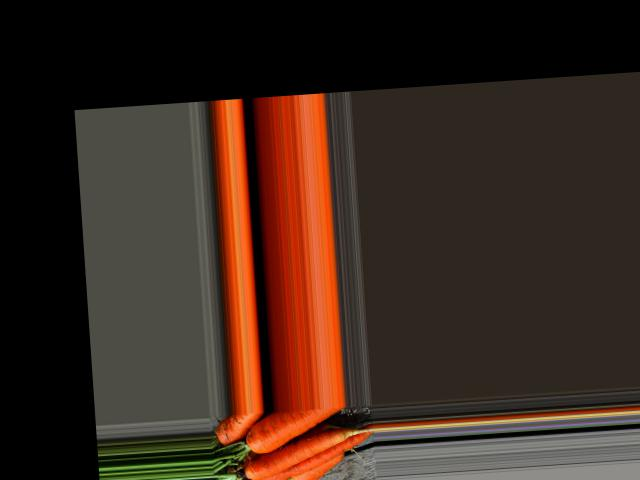carrot: (235, 410, 276, 444)
